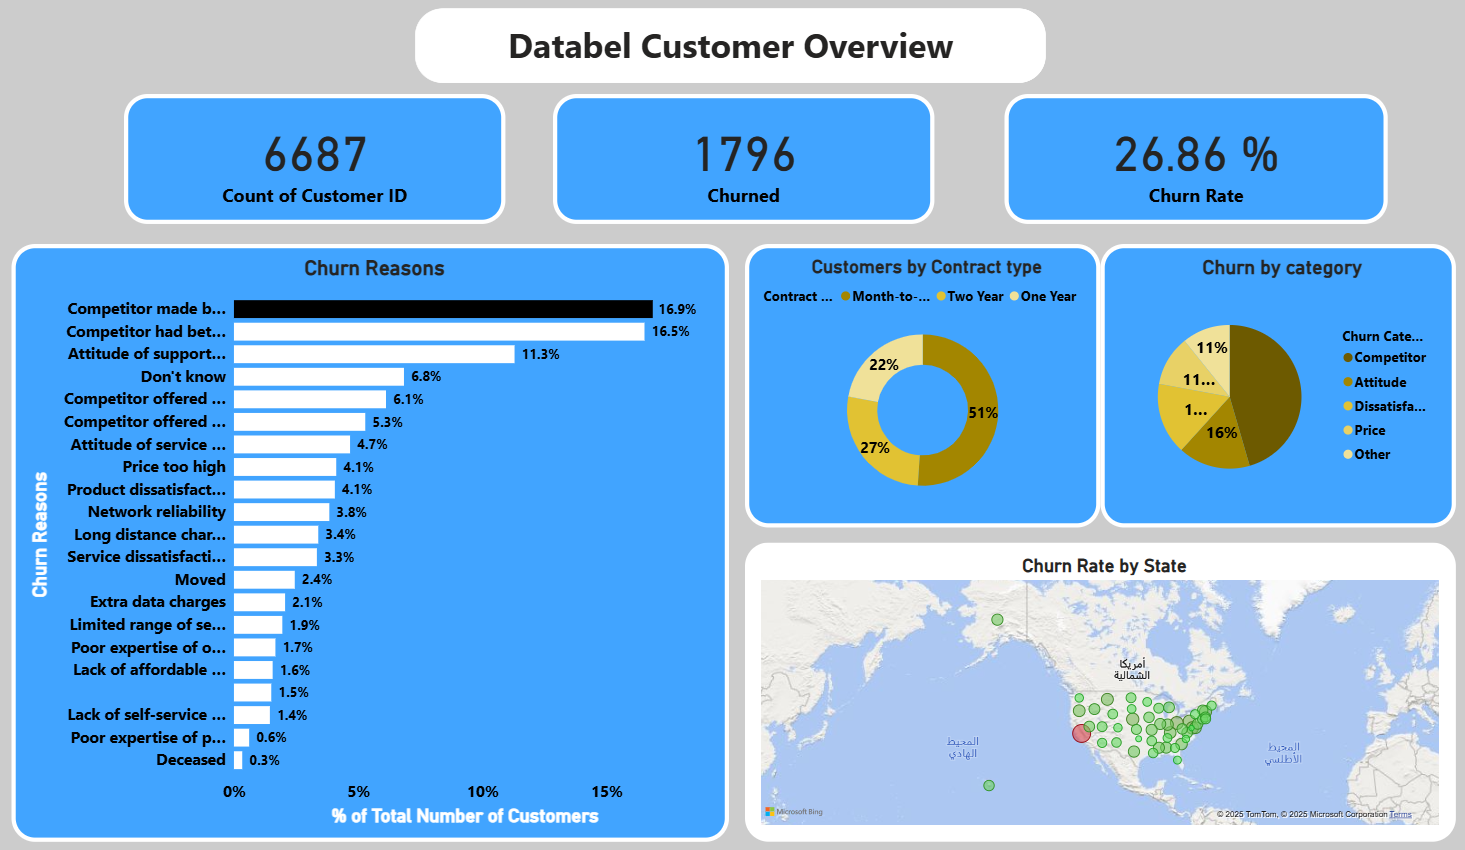

What the dashboard file says about the page in this screenshot:
{"tool":"powerbi","page":{"name":"Overview","canvas":[1640,960],"ordinal":0},"visuals":[{"type":"textbox","box":[472,18,694,82],"z":7000},{"type":"textbox","box":[470,18.3,695,81.7],"z":8000},{"type":"card","fields":{"Values":["Databel - Data.Churn Rate"]},"box":[1119.4,112.5,422.9,143.6],"z":9000},{"type":"card","fields":{"Values":["Count(Databel - Data.Customer ID)"]},"box":[149.4,112.5,421,143.6],"z":10000},{"type":"card","fields":{"Values":["Sum(Databel - Data.Churned)"]},"box":[622.8,112.5,421,143.6],"z":11000},{"type":"donutChart","title":"Customers by Contract type","fields":{"Y":["Count(Databel - Data.Customer ID)"],"Category":["Databel - Data.Contract Type"]},"box":[834.2,277.4,391.9,312.4],"z":12000},{"type":"pieChart","title":"Churn by category","fields":{"Category":["Databel - Data.Churn Category"],"Y":["CountNonNull(Databel - Data.Churn Label)"]},"box":[1226.1,277.4,391.9,312.4],"z":13000},{"type":"map","fields":{"Category":["Databel - Data.State"],"Size":["Databel - Data.Churn Rate"]},"box":[834.2,607.2,783.8,329.8],"z":14000},{"type":"clusteredBarChart","title":"Churn Reasons","fields":{"Category":["Databel - Data.Churn Reason"],"Y":["CountNonNull(Databel - Data.Number of Customers in Group)"]},"box":[25.2,277.4,791.6,659.6],"z":15000}]}

Visuals, with their boxes in screenshot pixels (x1, y1, x2, y2), scaled from the page's 1640x960 canvas onto the 1465x850 screenshot:
textbox: <region>422, 16, 1042, 89</region>
textbox: <region>420, 16, 1041, 89</region>
card - Databel - Data.Churn Rate: <region>1000, 100, 1378, 227</region>
card - Count(Databel - Data.Customer ID): <region>133, 100, 510, 227</region>
card - Sum(Databel - Data.Churned): <region>556, 100, 932, 227</region>
"Customers by Contract type" donutChart: <region>745, 246, 1095, 522</region>
"Churn by category" pieChart: <region>1095, 246, 1445, 522</region>
map - Databel - Data.State x Databel - Data.Churn Rate: <region>745, 538, 1445, 830</region>
"Churn Reasons" clusteredBarChart: <region>23, 246, 730, 830</region>
